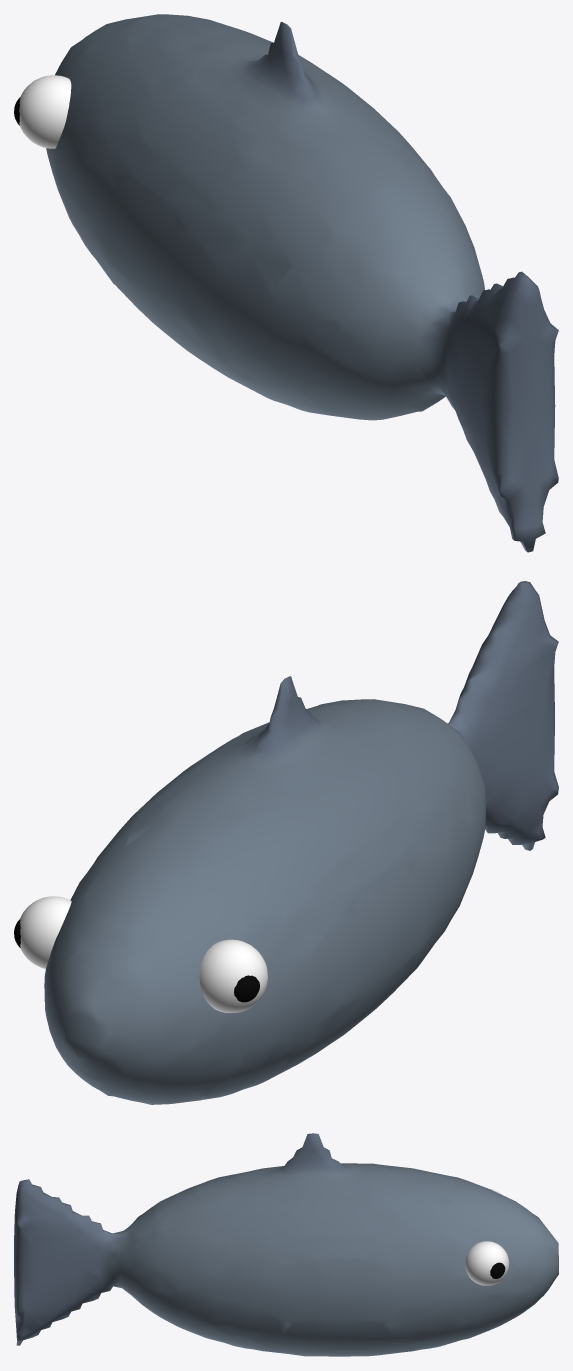
The model's file is fish.glb.
3 renders of one model, top to bottom at view 1: azimuth 30°, elevation 25°; view 2: azimuth 150°, elevation 25°; view 3: azimuth 270°, elevation 25°, orthographic. The views are drawn at different scales.
Visible parts, largest first — view 1: fish; view 2: fish; view 3: fish.
Part boxes in pixels (box(x1,y1,x2,y2)): fish: box(14, 14, 558, 552); fish: box(14, 581, 558, 1104); fish: box(14, 1133, 558, 1356).
Bounding box in the file's own units: 0.1385 × 0.1912 × 0.4387.
